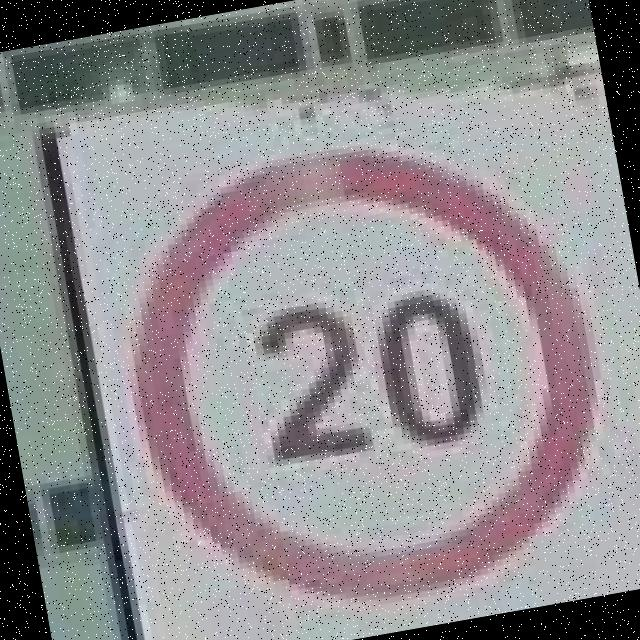Ograniczenie predkosci do 20: (97, 110, 632, 634)
